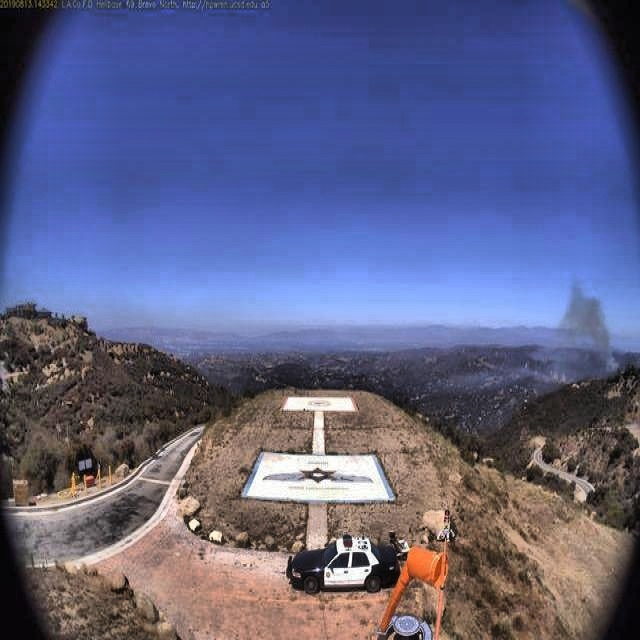smoke: (553, 284, 621, 379)
